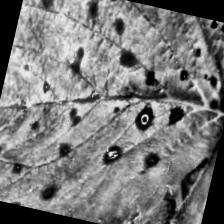Leaf Spot: (0, 0, 224, 224), (156, 86, 224, 224), (133, 7, 224, 110), (75, 178, 180, 224)
